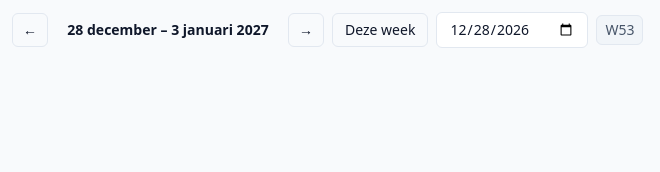
the week number in the period navigator › goes back to this week's number
This screenshot has width=660, height=172.
Step 1. Click the button "Deze week" → point(380, 30), box left=332, top=13, right=428, bottom=47
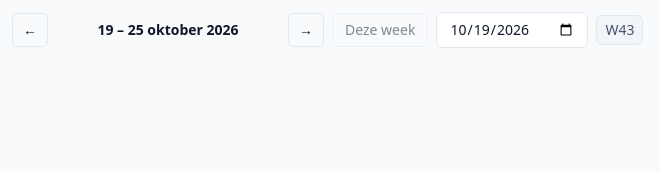
expect the text named "Weeknummer" reads "W43": met, box left=596, top=15, right=644, bottom=45
